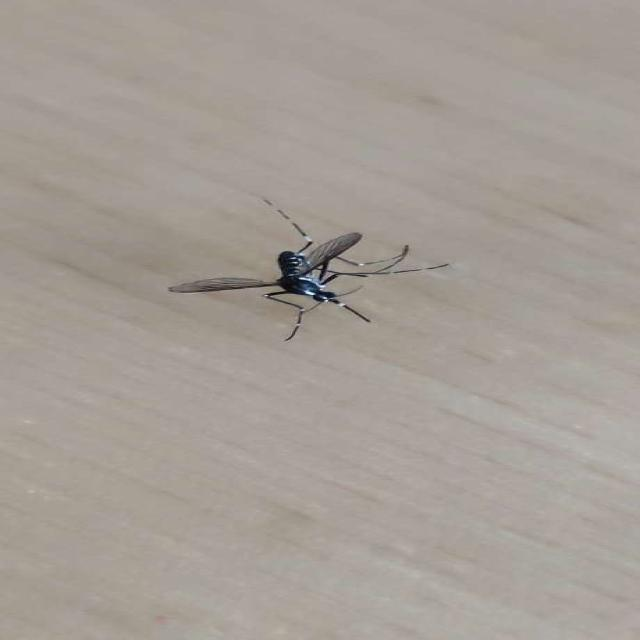albopictus: (166, 190, 452, 339)
